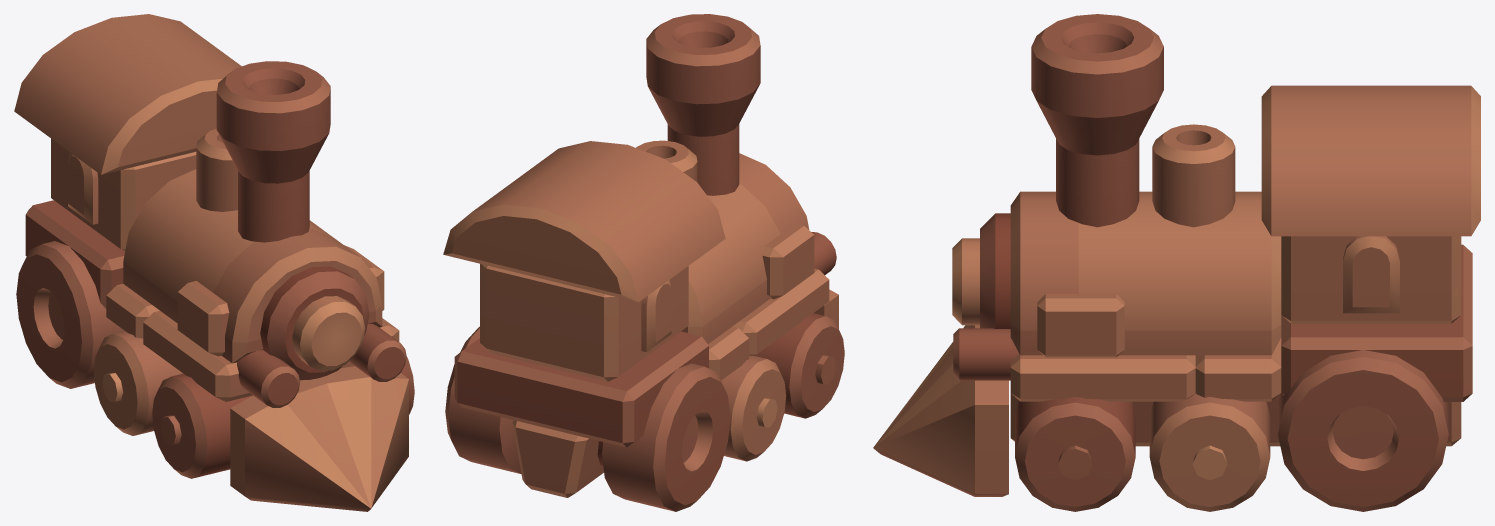
File: Toy_Train_Wood.obj
3 views of the same model, side by side, from view 1: azimuth 30°, elevation 25°; view 2: azimuth 150°, elevation 25°; view 3: azimuth 270°, elevation 25° (orthographic). The views are drawn at different scales.
Parts seen in each view (by area): view 1: Toy_Train_Wood; view 2: Toy_Train_Wood; view 3: Toy_Train_Wood.
Boxes of the visible parts, bbox=[...] form: Toy_Train_Wood: bbox=[14, 14, 414, 511]; Toy_Train_Wood: bbox=[443, 14, 844, 511]; Toy_Train_Wood: bbox=[873, 14, 1480, 511].
Bounding box in the file's own units: 0.4324 × 0.6487 × 0.8578.
1 material, 1 textured.
